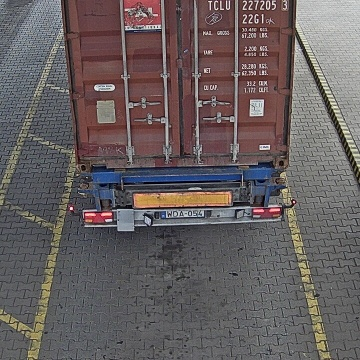serial_id: (208, 0, 288, 10)
